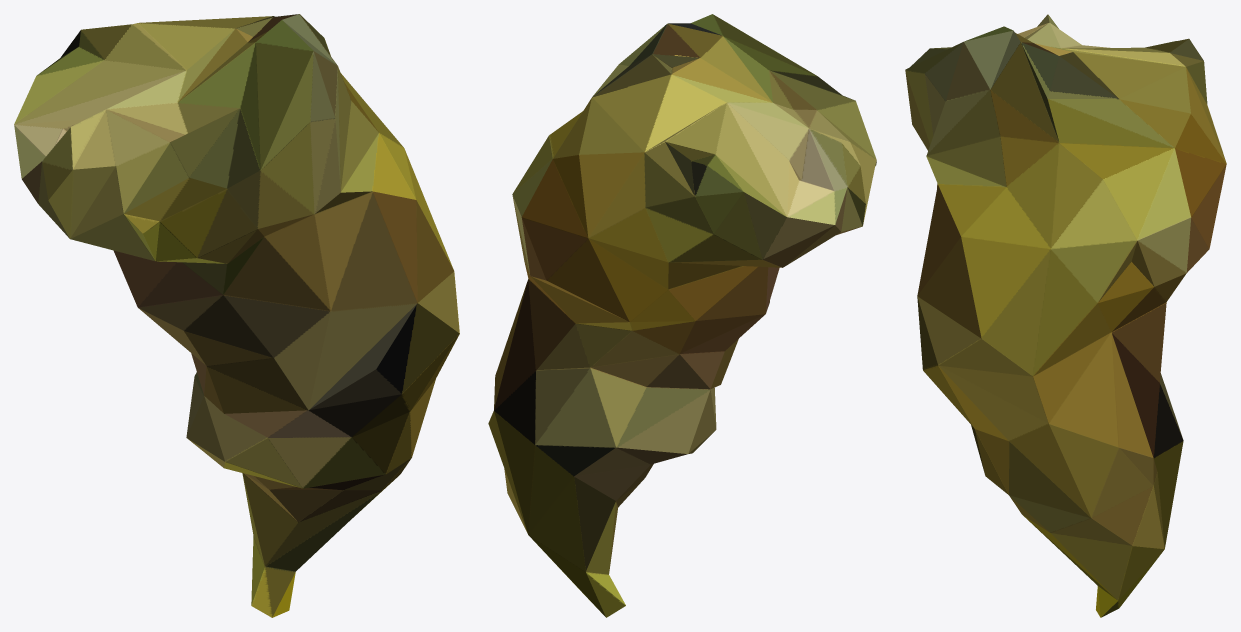
File: sandstorm.fbx
The picture shows the model from 3 angles, left to right: view 1: azimuth 30°, elevation 25°; view 2: azimuth 150°, elevation 25°; view 3: azimuth 270°, elevation 25°; orthographic projection. The views are drawn at different scales.
Visible parts, largest first — view 1: Mesh_0; view 2: Mesh_0; view 3: Mesh_0.
Boxes of the visible parts, x1,y1,x2,y2 form: Mesh_0: (14, 14, 459, 617); Mesh_0: (488, 14, 876, 617); Mesh_0: (905, 14, 1226, 617).
Bounding box in the file's own units: 73.69 × 118 × 61.05.
1 material, 1 textured.
